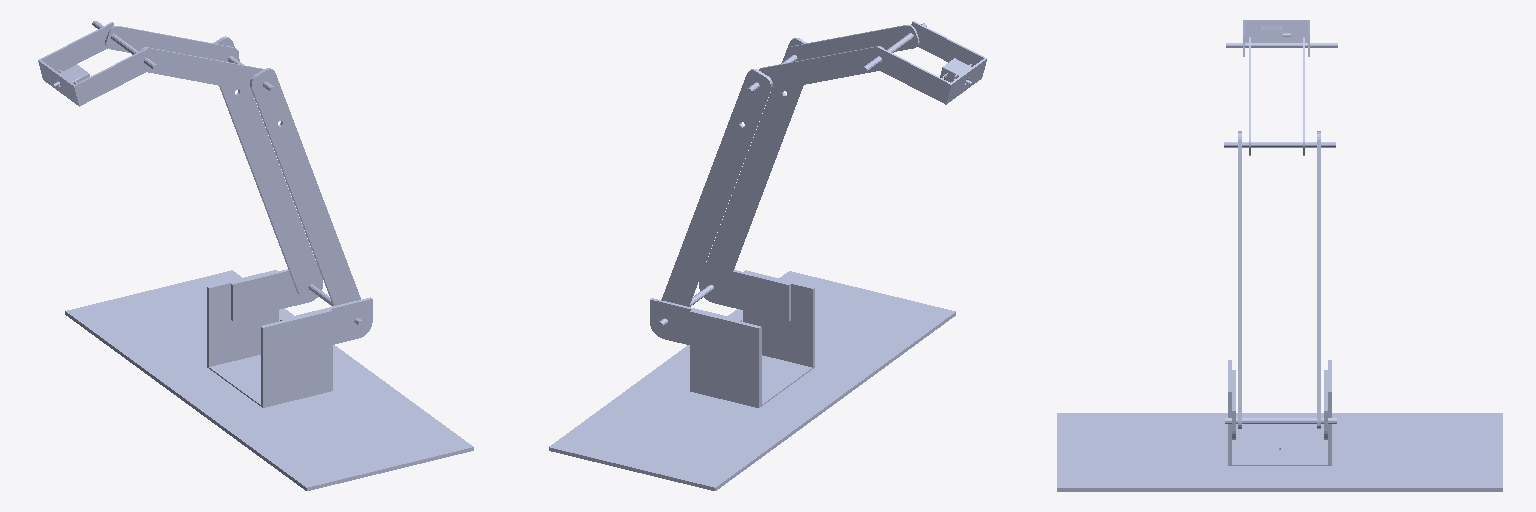
robot.urdf — manip:
<?xml version="1.0" encoding="utf-8"?>
<!-- This URDF was automatically created by SolidWorks to URDF Exporter! Originally created by [author] ([email redacted]) 
     Commit Version: 1.5.1-0-g916b5db  Build Version: 1.5.7152.31018
     For more information, please see http://wiki.ros.org/sw_urdf_exporter -->
<robot
  name="manip">
  <link
    name="base_link">
    <inertial>
      <origin
        xyz="0.0010372 0.0096001 -0.0015049"
        rpy="0 0 0" />
      <mass
        value="0.94081" />
      <inertia
        ixx="0.023357"
        ixy="-0.00021136"
        ixz="2.0329E-18"
        iyy="0.026263"
        iyz="-8.1315E-19"
        izz="0.0046818" />
    </inertial>
    <visual>
      <origin
        xyz="0 0 0"
        rpy="0 0 0" />
      <geometry>
        <mesh
          filename="package://manip/meshes/base_link.STL" />
      </geometry>
      <material
        name="">
        <color
          rgba="0.79216 0.81961 0.93333 1" />
      </material>
    </visual>
    <collision>
      <origin
        xyz="0 0 0"
        rpy="0 0 0" />
      <geometry>
        <mesh
          filename="package://manip/meshes/base_link.STL" />
      </geometry>
    </collision>
  </link>
  <link
    name="Empty_Link1">
    <inertial>
      <origin
        xyz="-0.0011011 0.005382 -0.18905"
        rpy="0 0 0" />
      <mass
        value="0.15671" />
      <inertia
        ixx="0.0023831"
        ixy="-4.1189E-08"
        ixz="1.4468E-06"
        iyy="0.0027923"
        iyz="6.6915E-05"
        izz="0.00044373" />
    </inertial>
    <visual>
      <origin
        xyz="0 0 0"
        rpy="0 0 0" />
      <geometry>
        <mesh
          filename="package://manip/meshes/Empty_Link1.STL" />
      </geometry>
      <material
        name="">
        <color
          rgba="0.79216 0.81961 0.93333 1" />
      </material>
    </visual>
    <collision>
      <origin
        xyz="0 0 0"
        rpy="0 0 0" />
      <geometry>
        <mesh
          filename="package://manip/meshes/Empty_Link1.STL" />
      </geometry>
    </collision>
  </link>
  <joint
    name="j1"
    type="revolute">
    <origin
      xyz="0.08659 0 0.083"
      rpy="-2.834 0 -1.5708" />
    <parent
      link="base_link" />
    <child
      link="Empty_Link1" />
    <axis
      xyz="1 0 0" />
    <limit
      lower="-1.5708"
      upper="1.5708"
      effort="50"
      velocity="100" />
  </joint>
  <link
    name="Empty_Link2">
    <inertial>
      <origin
        xyz="0.0014025 0.00075079 -0.10483"
        rpy="0 0 0" />
      <mass
        value="0.043622" />
      <inertia
        ixx="0.00016972"
        ixy="-3.5786E-08"
        ixz="-3.6216E-06"
        iyy="0.00022928"
        iyz="-5.1923E-07"
        izz="6.5402E-05" />
    </inertial>
    <visual>
      <origin
        xyz="0 0 0"
        rpy="0 0 0" />
      <geometry>
        <mesh
          filename="package://manip/meshes/Empty_Link2.STL" />
      </geometry>
      <material
        name="">
        <color
          rgba="0.79216 0.81961 0.93333 1" />
      </material>
    </visual>
    <collision>
      <origin
        xyz="0 0 0"
        rpy="0 0 0" />
      <geometry>
        <mesh
          filename="package://manip/meshes/Empty_Link2.STL" />
      </geometry>
    </collision>
  </link>
  <joint
    name="j2"
    type="revolute">
    <origin
      xyz="0 0.010603 -0.37242"
      rpy="0.97478 0 0" />
    <parent
      link="Empty_Link1" />
    <child
      link="Empty_Link2" />
    <axis
      xyz="1 0 0" />
    <limit
      lower="-1.5708"
      upper="1.5708"
      effort="50"
      velocity="100" />
  </joint>
  <link
    name="Empty_Link3">
    <inertial>
      <origin
        xyz="0 0.071233 0.0062757"
        rpy="0 0 0" />
      <mass
        value="0.042618" />
      <inertia
        ixx="8.3331E-05"
        ixy="4.0658E-20"
        ixz="6.7763E-21"
        iyy="4.5654E-05"
        iyz="-1.596E-06"
        izz="4.2457E-05" />
    </inertial>
    <visual>
      <origin
        xyz="0 0 0"
        rpy="0 0 0" />
      <geometry>
        <mesh
          filename="package://manip/meshes/Empty_Link3.STL" />
      </geometry>
      <material
        name="">
        <color
          rgba="0.79216 0.81961 0.93333 1" />
      </material>
    </visual>
    <collision>
      <origin
        xyz="0 0 0"
        rpy="0 0 0" />
      <geometry>
        <mesh
          filename="package://manip/meshes/Empty_Link3.STL" />
      </geometry>
    </collision>
  </link>
  <joint
    name="j3"
    type="revolute">
    <origin
      xyz="0 0 -0.18082"
      rpy="-1.5708 0.81994 -1.5708" />
    <parent
      link="Empty_Link2" />
    <child
      link="Empty_Link3" />
    <axis
      xyz="0 0 1" />
    <limit
      lower="-1.5708"
      upper="1.5708"
      effort="50"
      velocity="100" />
  </joint>
</robot>

--- Render facts (derived) ---
3 views of the same robot in one strip: view 1: azimuth 30°, elevation 25°; view 2: azimuth 150°, elevation 25°; view 3: azimuth 270°, elevation 25° (orthographic).
Robot: manip — 4 links, 3 joints (3 revolute); root link base_link; default pose: all joints at 0.
Links seen in each view (by area): view 1: base_link, Empty_Link1, Empty_Link2, Empty_Link3; view 2: base_link, Empty_Link1, Empty_Link2, Empty_Link3; view 3: base_link, Empty_Link1, Empty_Link3, Empty_Link2.
Link boxes in pixels (box(x1,y1,x2,y2)): base_link: box(65, 262, 473, 490); Empty_Link1: box(213, 36, 363, 326); Empty_Link2: box(92, 21, 263, 91); Empty_Link3: box(38, 22, 151, 106); base_link: box(549, 266, 955, 490); Empty_Link1: box(658, 38, 806, 327); Empty_Link2: box(759, 23, 926, 90); Empty_Link3: box(873, 21, 986, 104); base_link: box(1057, 360, 1502, 491); Empty_Link1: box(1224, 131, 1336, 428); Empty_Link3: box(1243, 20, 1309, 56); Empty_Link2: box(1226, 37, 1337, 155).
Size in the robot's own frame: 0.4328 by 0.6 by 0.5253 metres.
4 mesh visuals loaded from 4 distinct referenced files (4 binary STL).